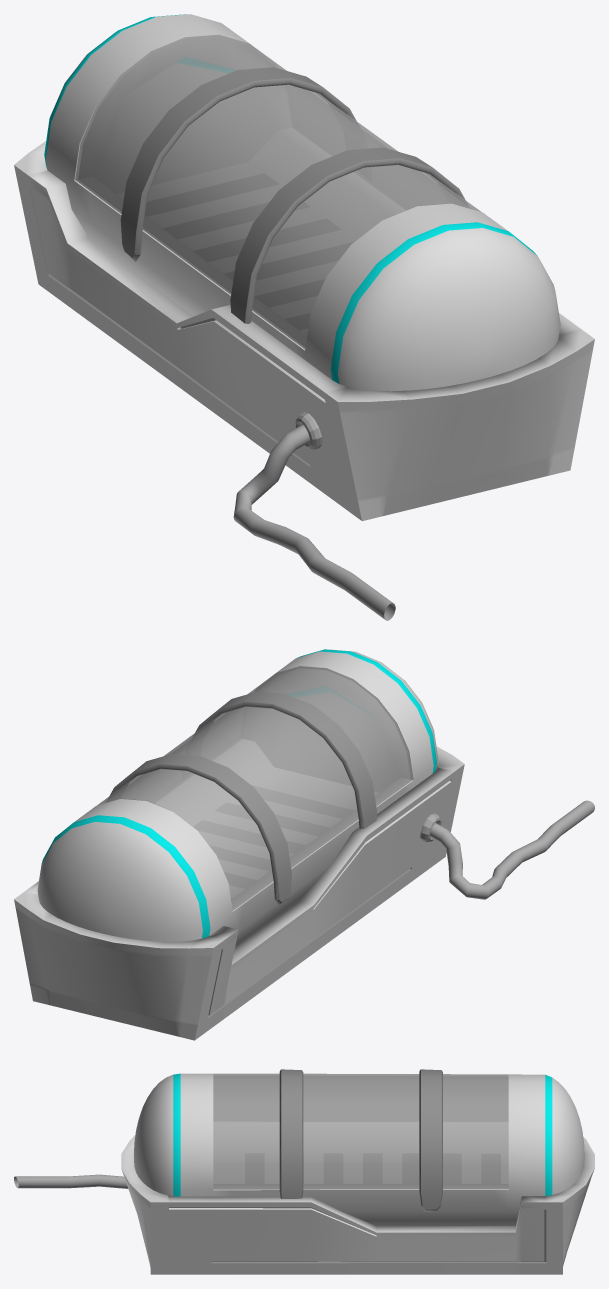
Rendered from Pod_close.fbx.
The picture shows the model from 3 angles, top to bottom: view 1: azimuth 30°, elevation 25°; view 2: azimuth 150°, elevation 25°; view 3: azimuth 270°, elevation 25°; orthographic projection. The views are drawn at different scales.
Visible parts, largest first — view 1: pTorus5, pSphere16; view 2: pTorus5, pSphere16; view 3: pTorus5, pSphere16.
Boxes of the visible parts, box(x1,y1,x2,y2) form: pTorus5: box(14, 14, 594, 620); pSphere16: box(75, 34, 481, 348); pTorus5: box(14, 649, 594, 1040); pSphere16: box(97, 666, 412, 910); pTorus5: box(14, 1073, 594, 1274); pSphere16: box(213, 1069, 508, 1211).
Size of the model in its own units: 1449 by 1141 by 3523.
